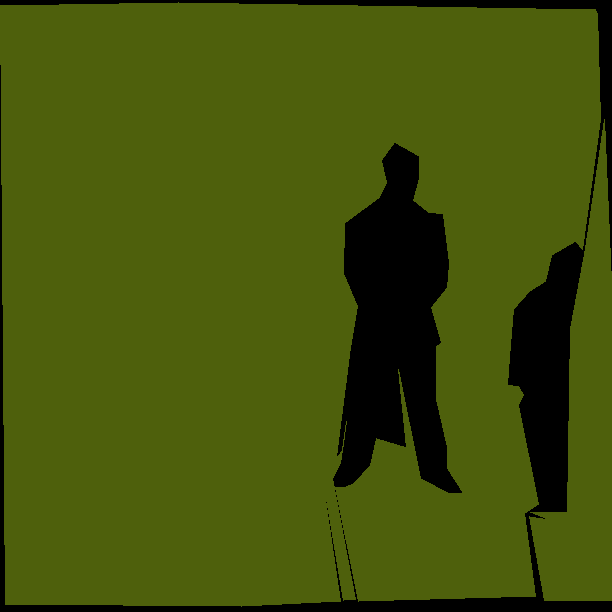Train: (0, 2, 612, 606)
